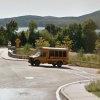Bus: (30, 46, 71, 66)
